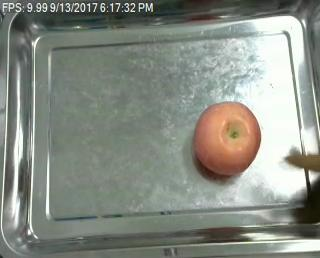apple: (193, 101, 261, 177)
